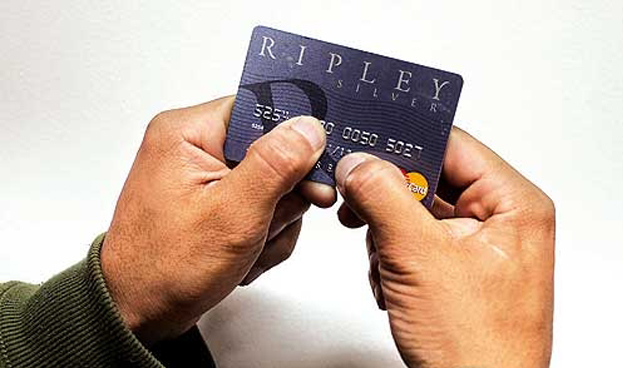tarjeta: (224, 26, 465, 212)
